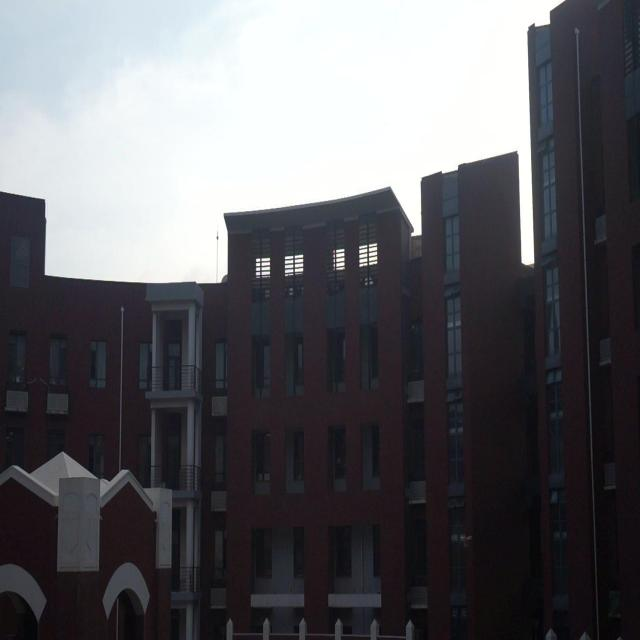UAV: (462, 536, 472, 546)
